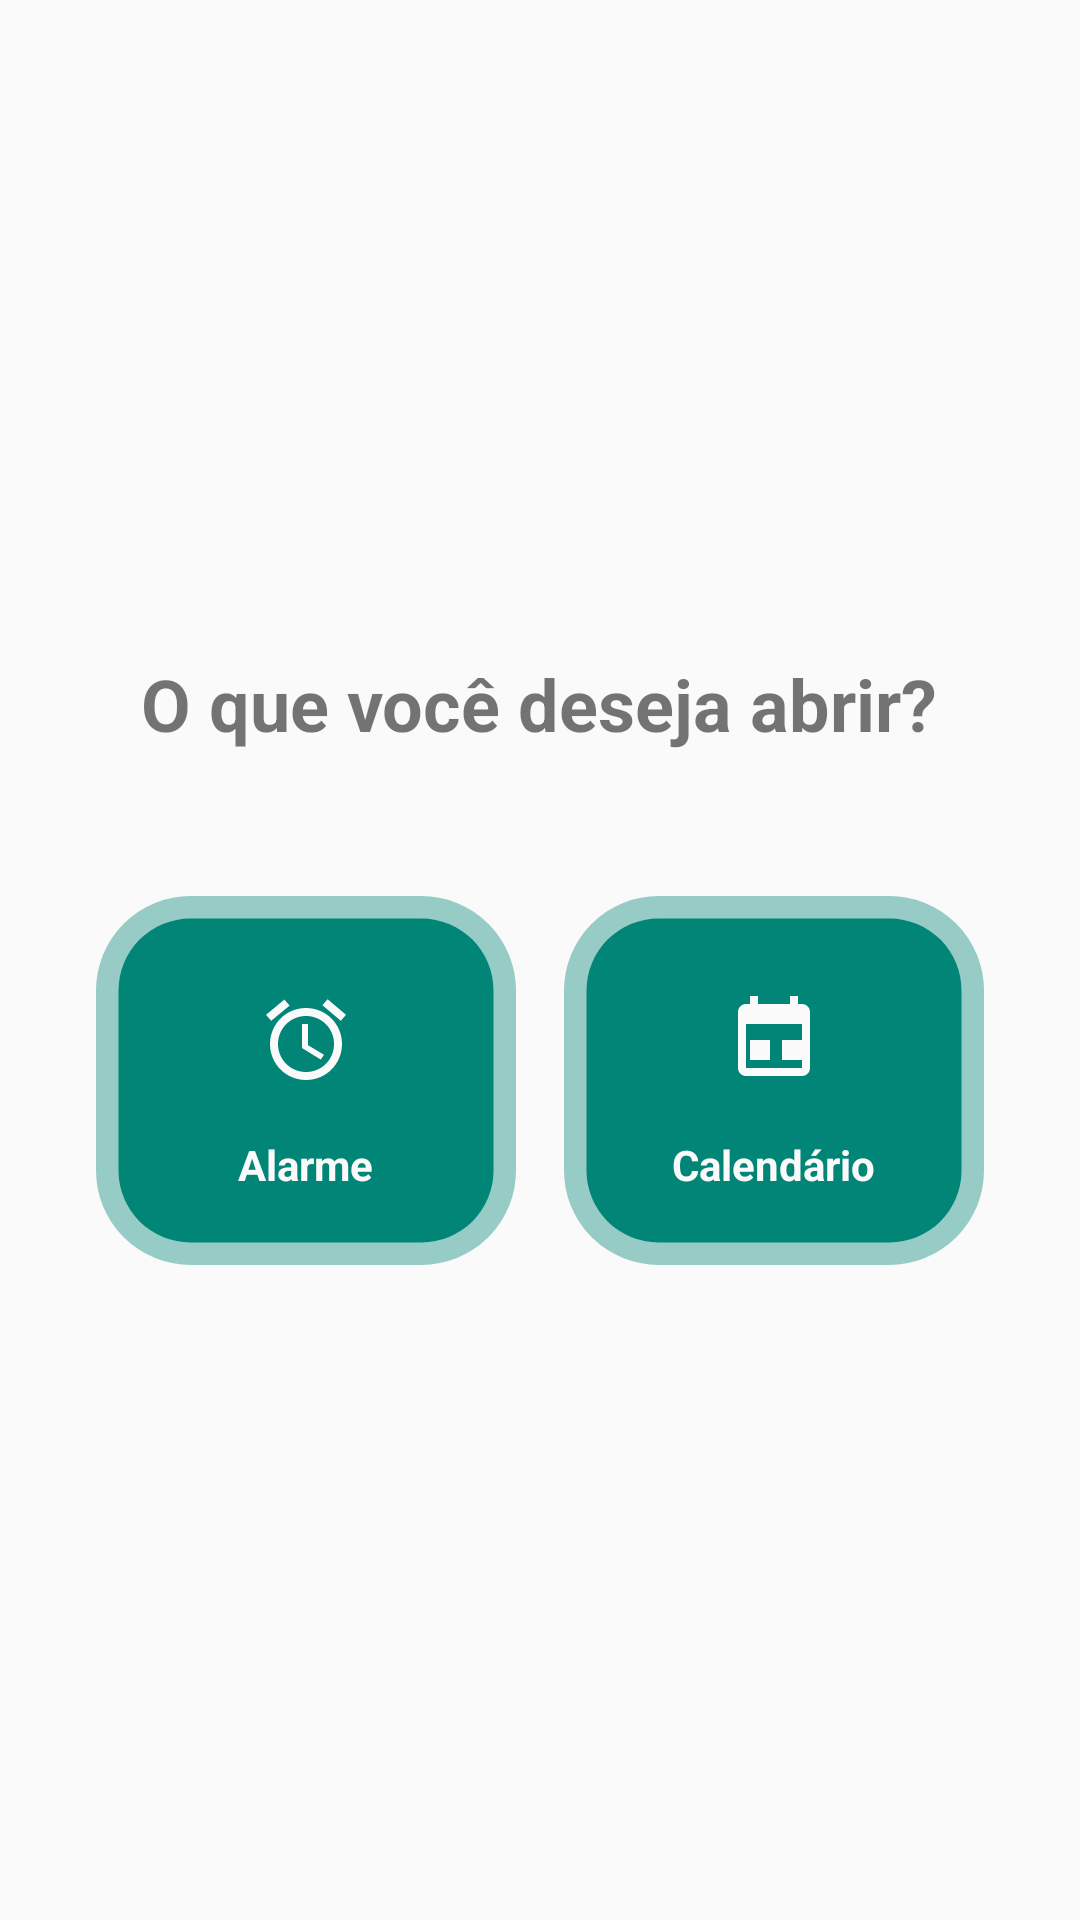

Named icons in this screenshot (1080*1920) and their centers, point (x, y):
calendar: point (774, 1036)
